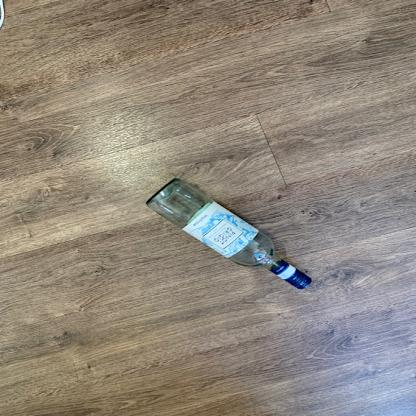trash: (144, 177, 317, 294)
